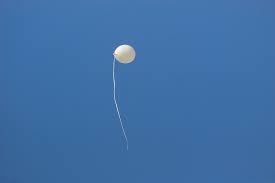Balloon: (114, 45, 136, 64)
